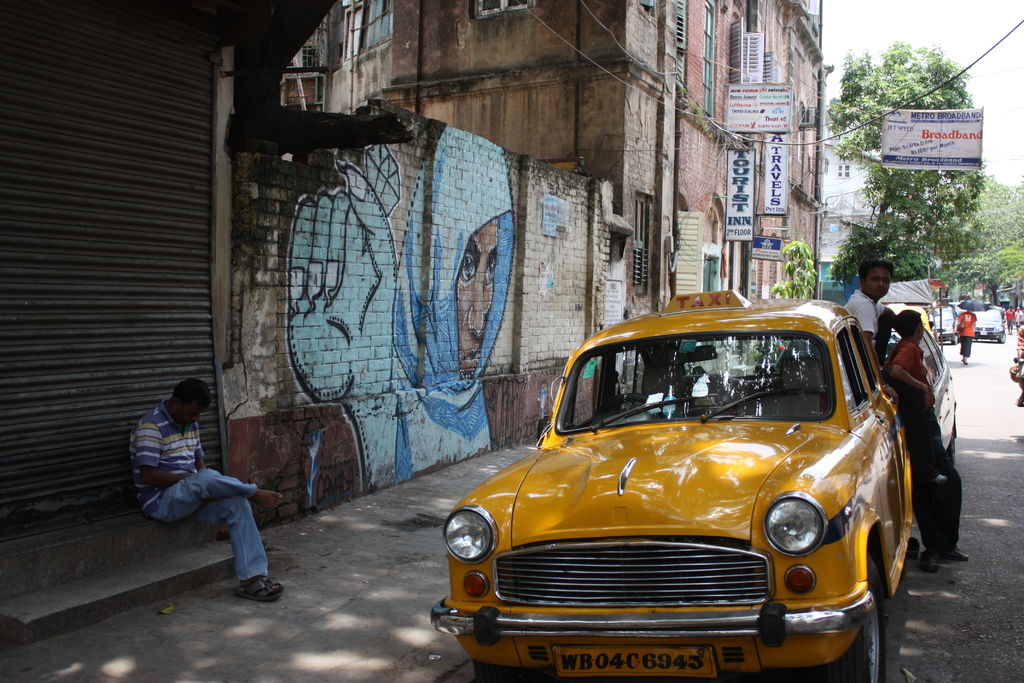Car: (430, 288, 1007, 682), (841, 306, 955, 461), (971, 304, 1009, 340), (929, 308, 958, 346)
